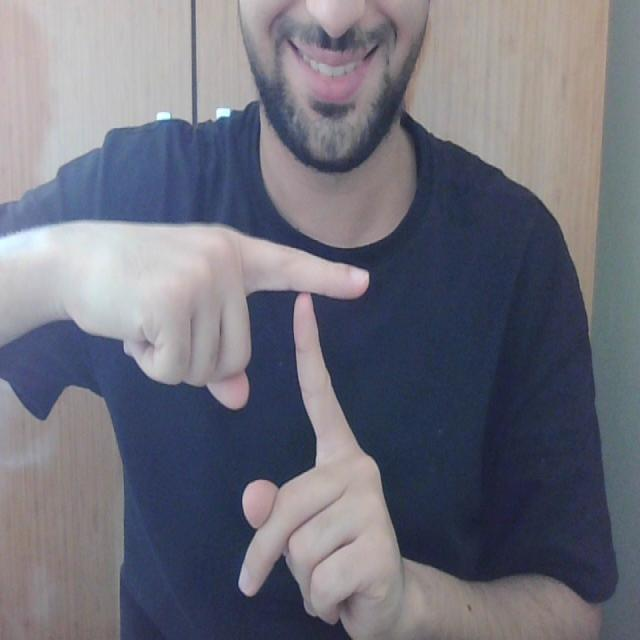Tesekkurler: (222, 196, 382, 542)
